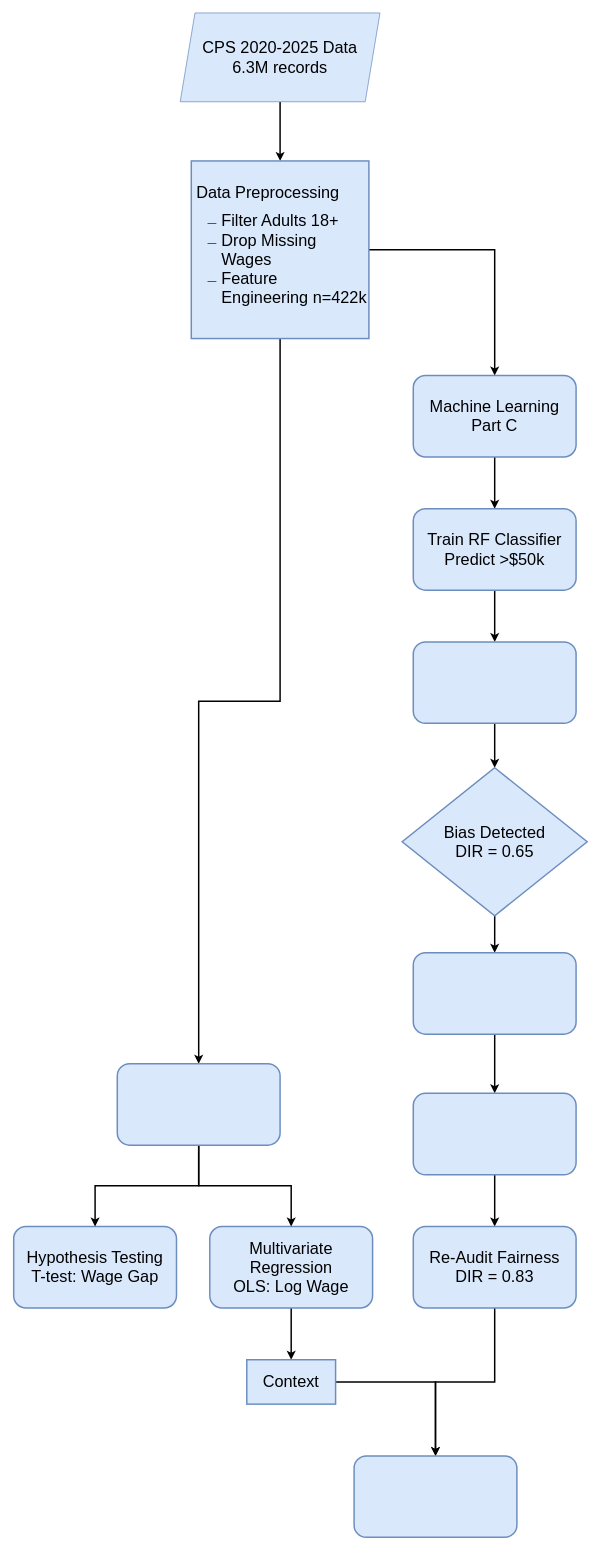
This 600x1551 diagram has some shape labels left out. The centre of each missing label's shape, as x and y in pixels:
"Compare Results Trade-offs" belongs at (435,1496).
"Fairness Audit DIR, TPR, FPR" belongs at (494,682).
"Fairness Intervention Remove Gender" belongs at (494,993).
"Retrain Model No Gender Feature" belongs at (494,1133).
"Statistical Analysis Part A/B" belongs at (198,1104).
